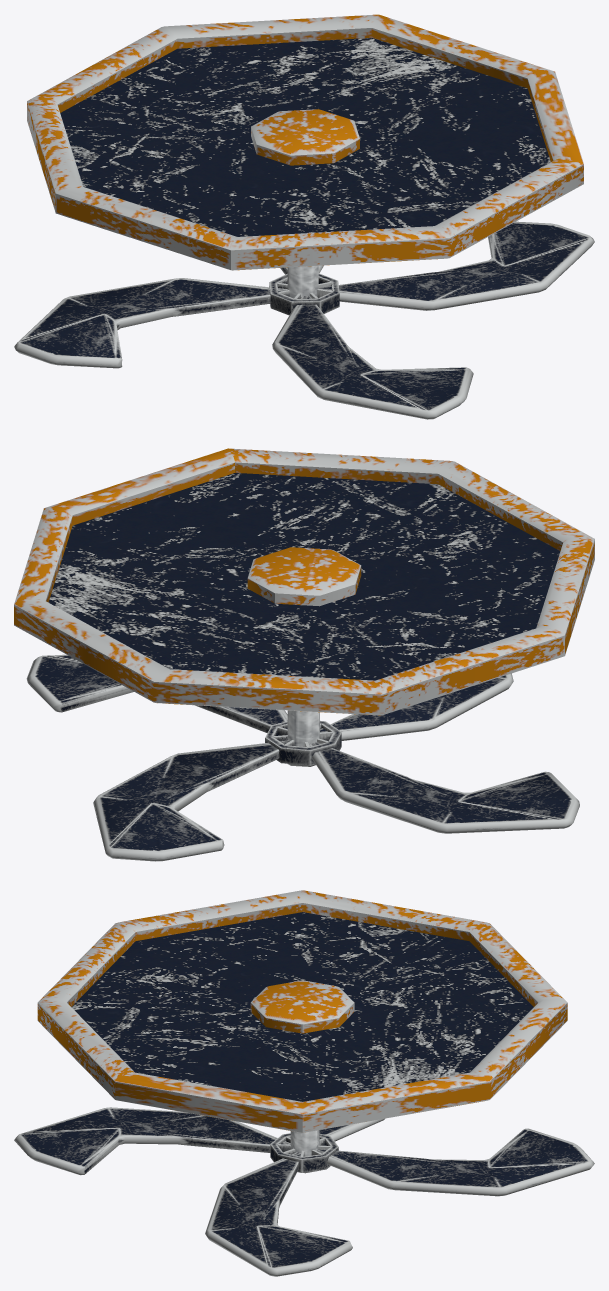
3 views of the same model, one above another, from view 1: azimuth 30°, elevation 25°; view 2: azimuth 150°, elevation 25°; view 3: azimuth 270°, elevation 25° (orthographic). The views are drawn at different scales.
Visible parts, largest first — view 1: Platform_Material #2_0, Helix_Material #2_0; view 2: Platform_Material #2_0, Helix_Material #2_0; view 3: Platform_Material #2_0, Helix_Material #2_0.
Part boxes in pixels (x1,y1,x2,y2): Platform_Material #2_0: (27,14,583,298); Helix_Material #2_0: (14,221,594,419); Platform_Material #2_0: (14,448,594,766); Helix_Material #2_0: (26,654,579,861); Platform_Material #2_0: (37,890,567,1173); Helix_Material #2_0: (14,1107,594,1276).
Bounding box in the file's own units: 115 × 35.89 × 115.
Materials: 1 (1 with a texture image).
